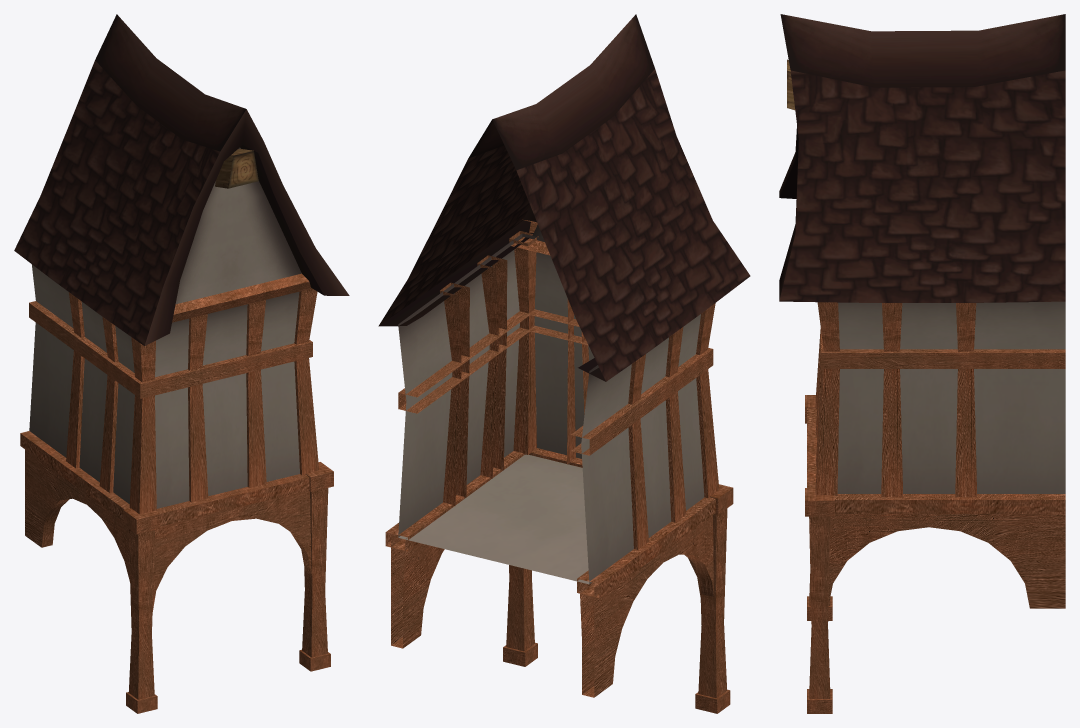
File: fanasty_mod_extention_piece_G.fbx
3 renders of one model, left to right at view 1: azimuth 30°, elevation 25°; view 2: azimuth 150°, elevation 25°; view 3: azimuth 270°, elevation 25°, orthographic. The views are drawn at different scales.
Parts seen in each view (by area): view 1: extention_piece_G; view 2: extention_piece_G; view 3: extention_piece_G.
Part boxes in pixels (bbox=[...]): extention_piece_G: bbox=[14, 14, 349, 713]; extention_piece_G: bbox=[378, 14, 750, 713]; extention_piece_G: bbox=[779, 14, 1065, 713].
Bounding box in the file's own units: 3.85 × 10.56 × 4.23.
